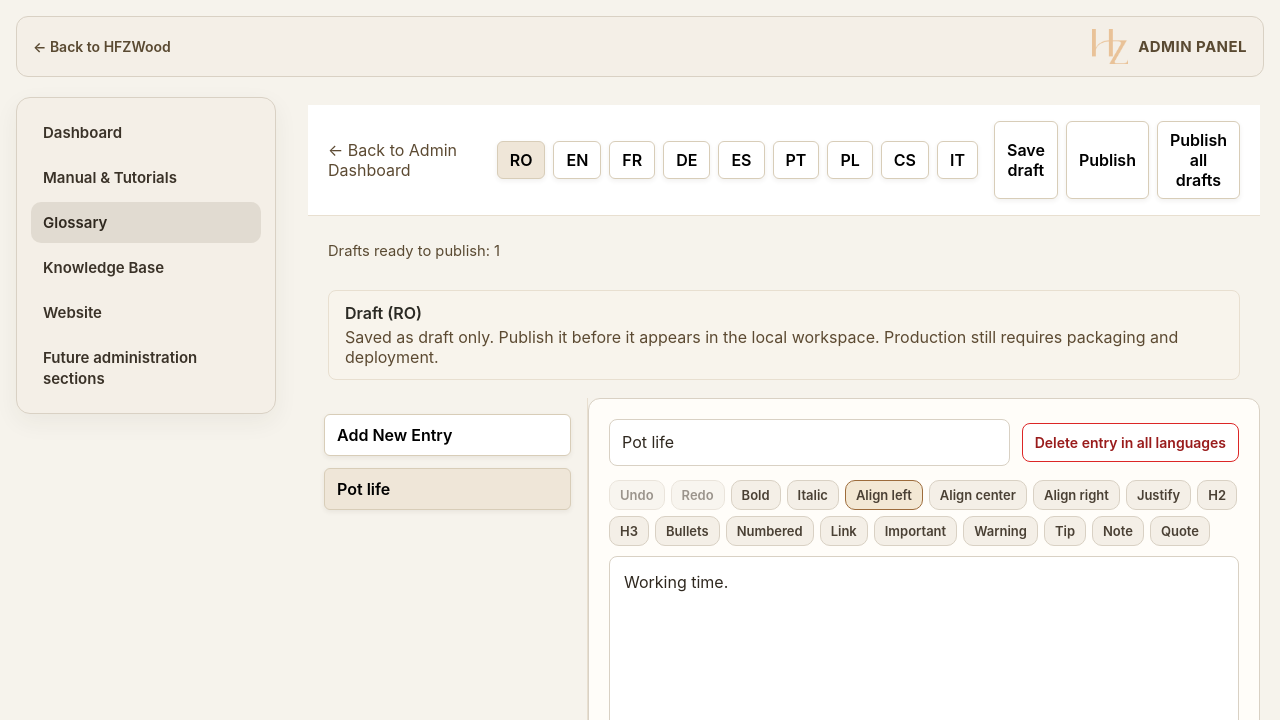
Test: Glossary management workspace (Task 60) › deletes the selected glossary entry
Expected: the button "Pot life" is shown, [324,468,571,510]
Step 1. Click the button "Delete entry in all languages" → click(1130, 442), box [1022,423,1239,462]
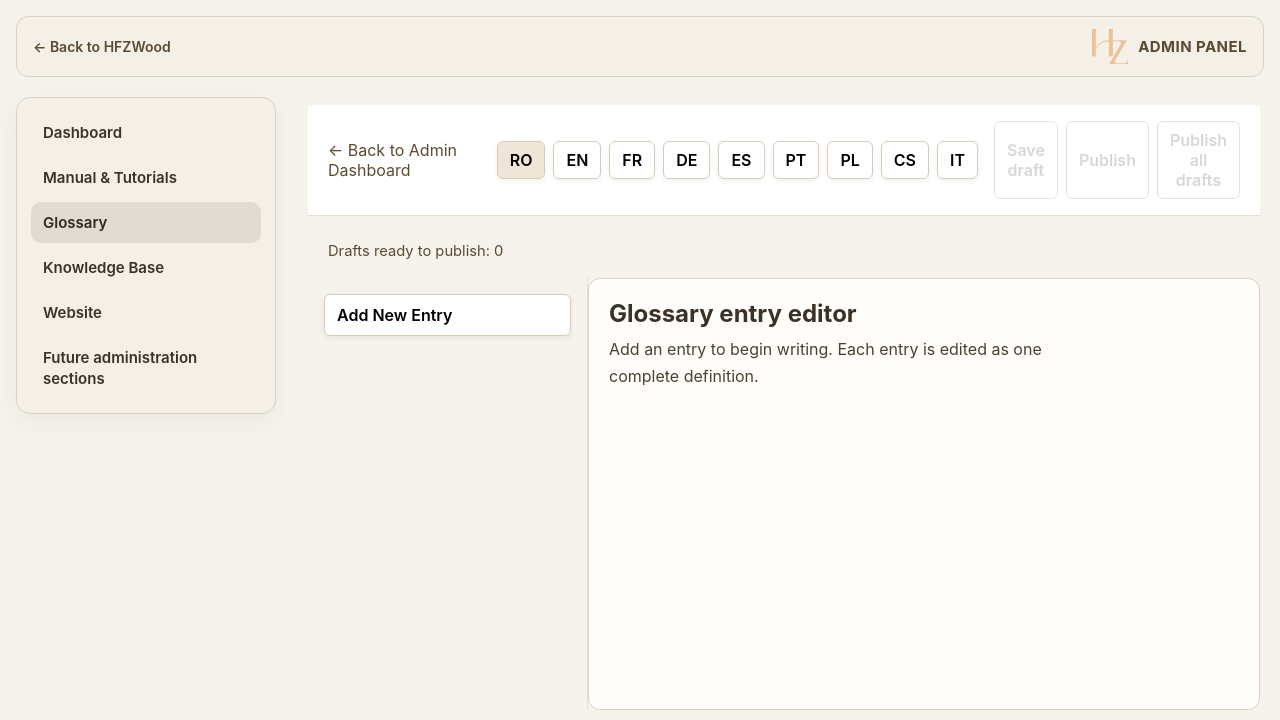
Expected: the button "Pot life" is gone
